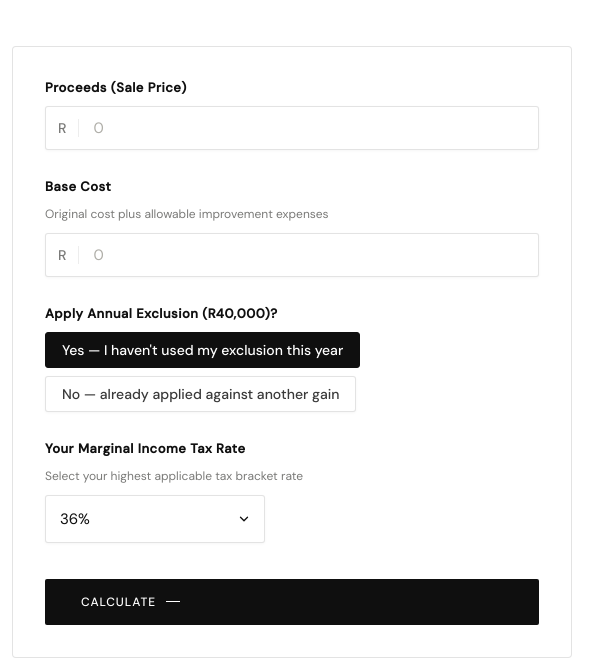
Scenario: CgtCalculator › GIVEN the 2026/2027 tax year › WHEN the same scenario is run, THEN results still display correctly
Type "500000" into the number field with placeholder "0" below "Proceeds (Sale Price)" at (309, 128), box [80, 106, 538, 148]
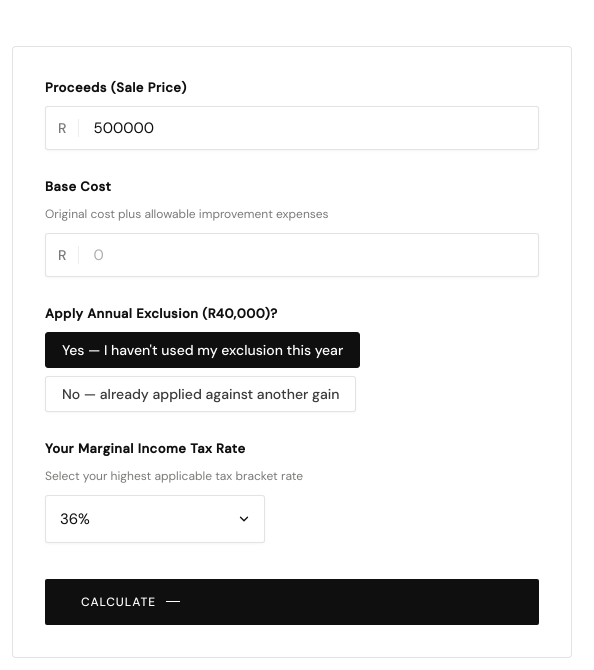
Type "200000" into the number field with placeholder "0" at (309, 254), box [80, 234, 538, 276]
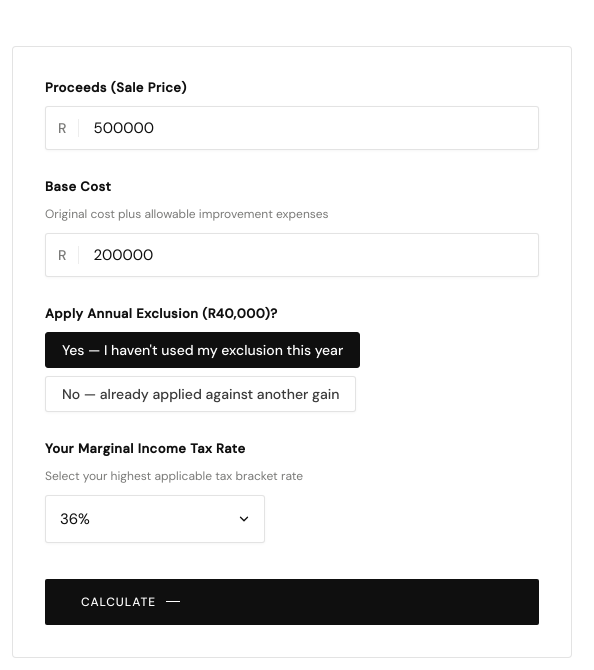
Select "36%" in the dropdown at (155, 518), box [45, 494, 265, 542]
Click the button with class "calc-submit" at (119, 602), box [45, 578, 539, 624]
(page scrolled)
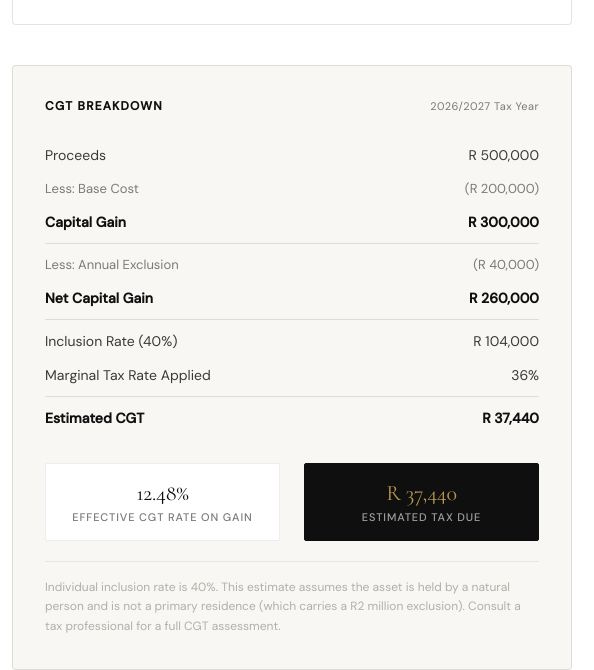
Result: the element with class "calc-results" is shown
Result: the text "2026/2027" is shown at [430, 98, 539, 112]
